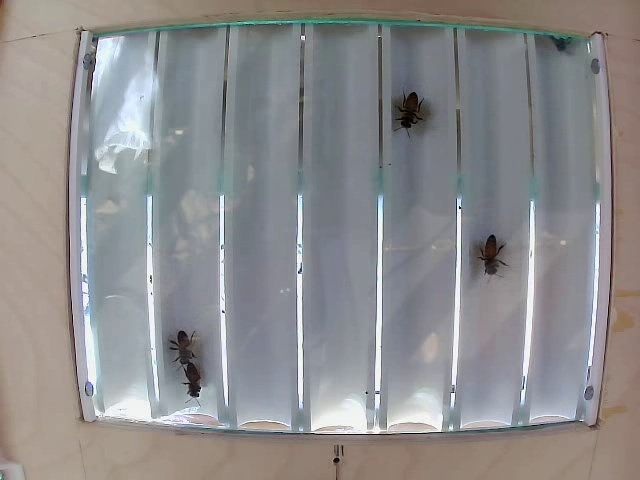bee: (475, 226, 513, 275), (184, 370, 219, 409), (399, 97, 429, 139), (171, 316, 197, 354)
